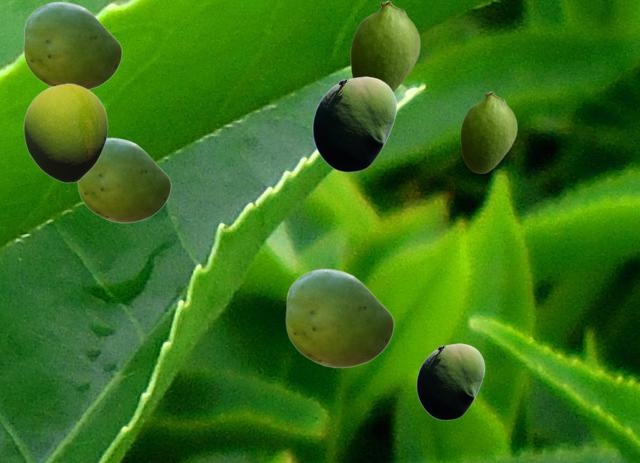green_mango: (285, 268, 393, 367), (23, 1, 121, 89), (23, 83, 107, 182), (312, 76, 396, 171), (77, 137, 170, 222), (350, 0, 419, 91), (416, 343, 484, 419), (460, 91, 516, 172)
